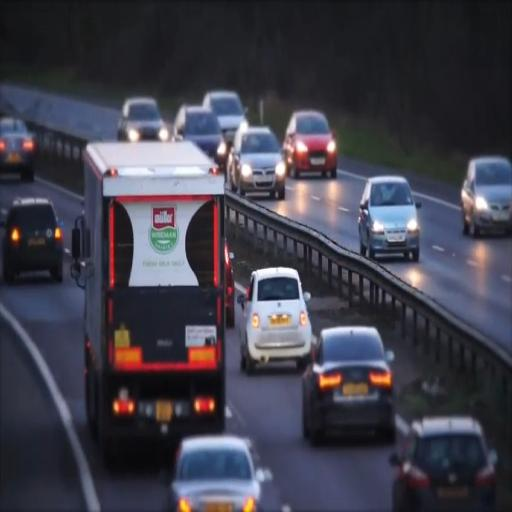car: (302, 326, 396, 446), (388, 413, 498, 512), (238, 263, 315, 371), (166, 433, 268, 512), (358, 174, 422, 263), (0, 196, 64, 284), (225, 124, 287, 201), (459, 156, 512, 238), (282, 110, 338, 180), (172, 104, 226, 170), (201, 90, 247, 156), (116, 97, 167, 144), (0, 117, 36, 182)
truck: (77, 141, 231, 470)
